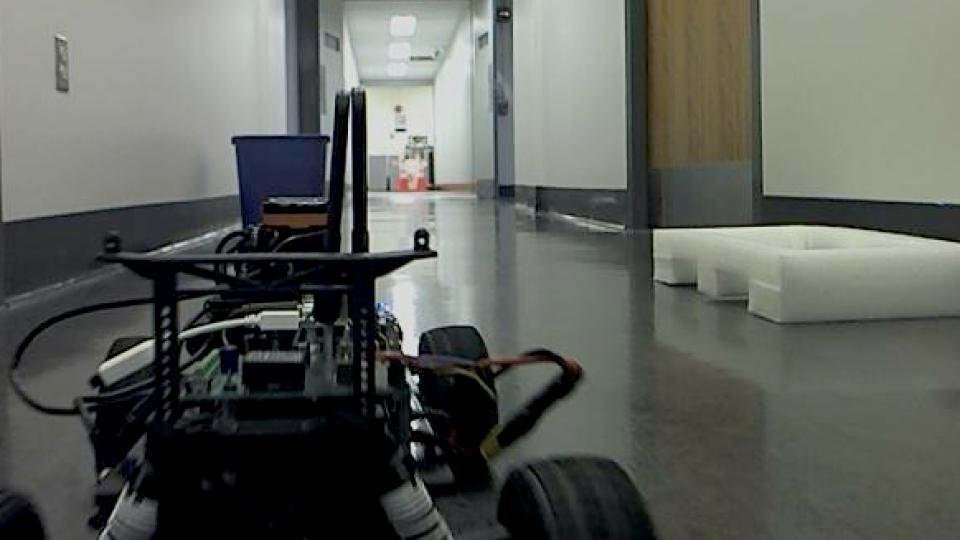car: (0, 84, 673, 540)
